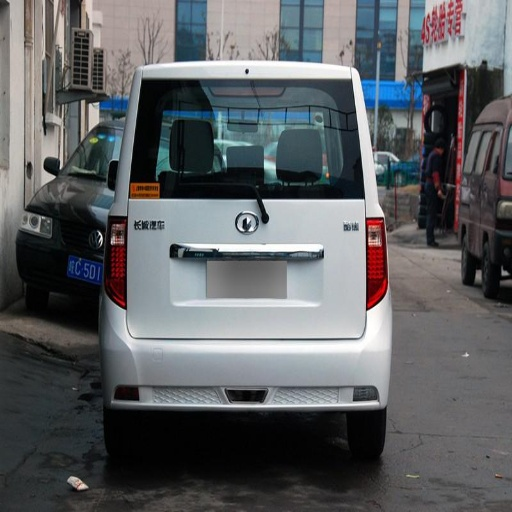back_bumper: (105, 291, 387, 410)
trunk: (123, 199, 363, 336)
